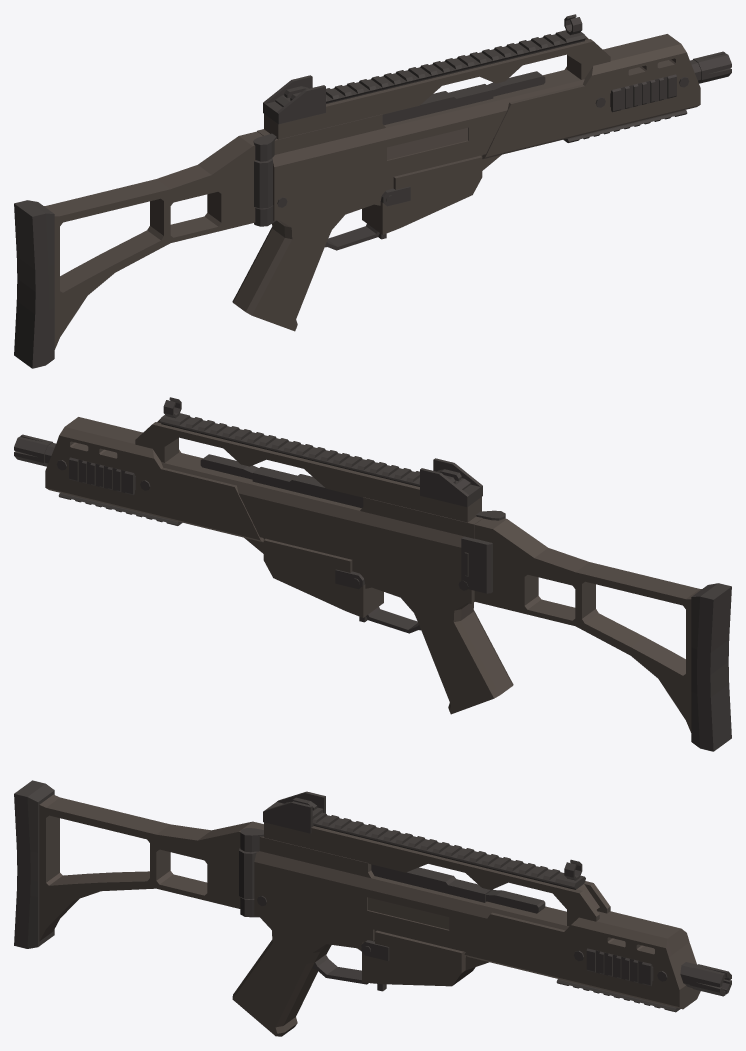
The model's file is AssaultRifle3_03.fbx.
The picture shows the model from 3 angles, top to bottom: view 1: azimuth 30°, elevation 25°; view 2: azimuth 150°, elevation 25°; view 3: azimuth 330°, elevation 25°; orthographic projection.
Visible parts, largest first — view 1: AssaultRifle3_03; view 2: AssaultRifle3_03; view 3: AssaultRifle3_03.
Boxes of the visible parts, bbox=[...] form: AssaultRifle3_03: bbox=[14, 14, 731, 368]; AssaultRifle3_03: bbox=[14, 397, 731, 751]; AssaultRifle3_03: bbox=[14, 780, 731, 1036].
Bounding box in the file's own units: 0.8153 × 0.2655 × 0.0529.
